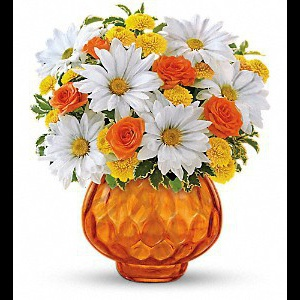flowerpot: (82, 157, 223, 283)
